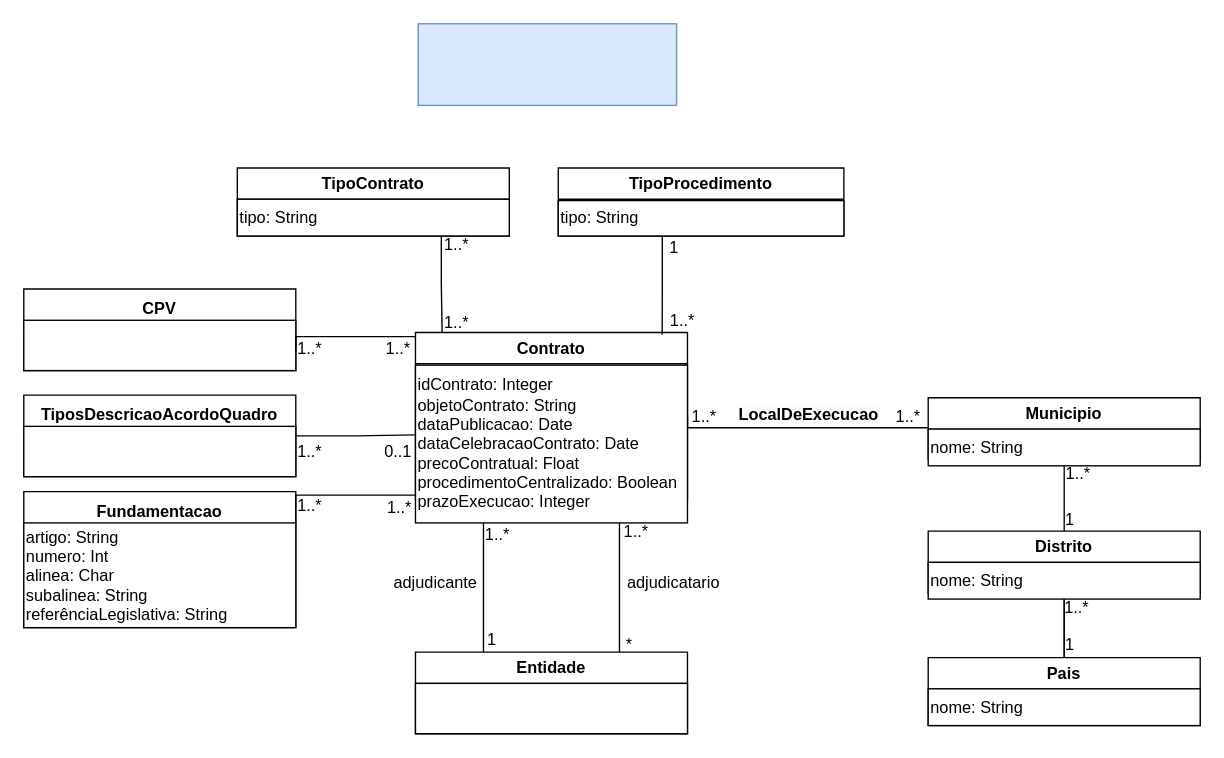
Some shapes in this 1224 by 758 pixel diagram are drawn without their labels. The shapes that lost their labels are listed below. From the top down, each one's centre as x and y in pixels, then its label:
At [547,63]: "Diagrama UML Contratos públicos".
At [159,345]: "codigo: String descricao: String".
At [159,451]: "identificador: String [0..1] descricao: String".
At [550,708]: "nif: Integer designacao: String".
